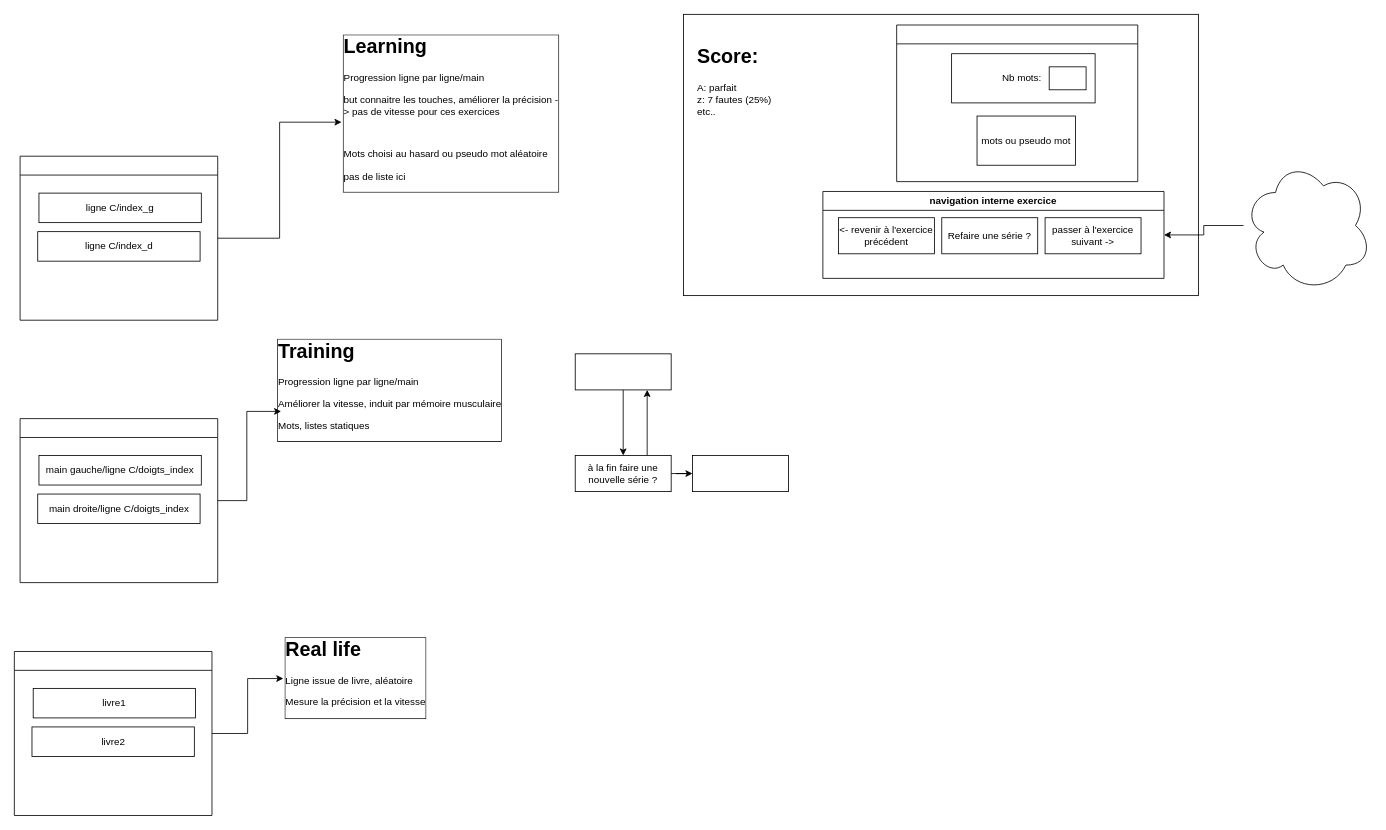
Some shapes in this 1386 by 830 pixel diagram are drawn without their labels. Each missing label, with the box of its shape:
il faudra mapper <- -> et flèche du haut pour aller plus vite: (1243, 159, 1371, 292)
Learning: (19, 155, 218, 320)
liste de 10-20-30 mots: (896, 24, 1138, 182)
liste de 25 mots: (574, 353, 671, 390)
passer à l'exercice suivant: (692, 455, 788, 492)
Real life: (14, 651, 212, 815)
Training: (19, 418, 218, 583)
